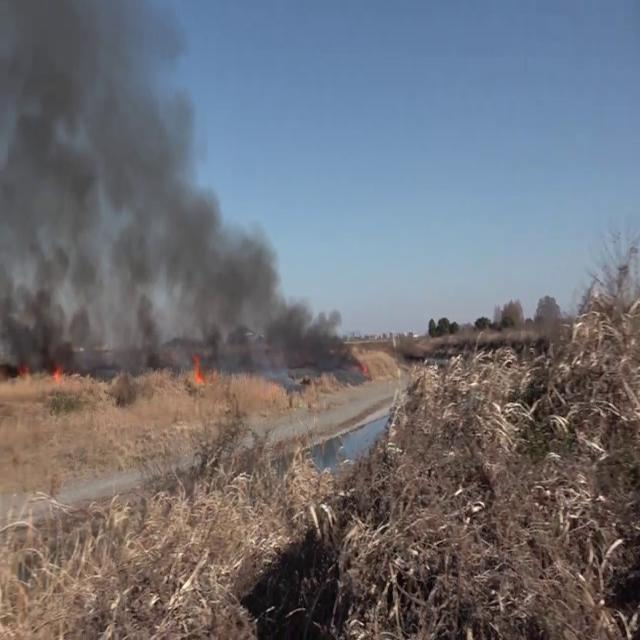Fire: (186, 344, 208, 388)
Smoke: (0, 0, 193, 364), (171, 195, 367, 378)
